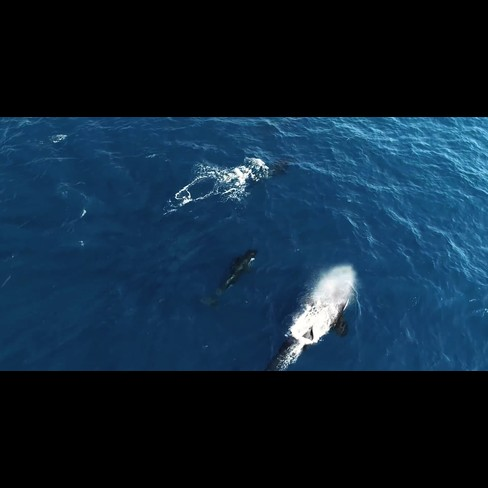orca: (257, 265, 362, 371), (197, 244, 263, 313)
